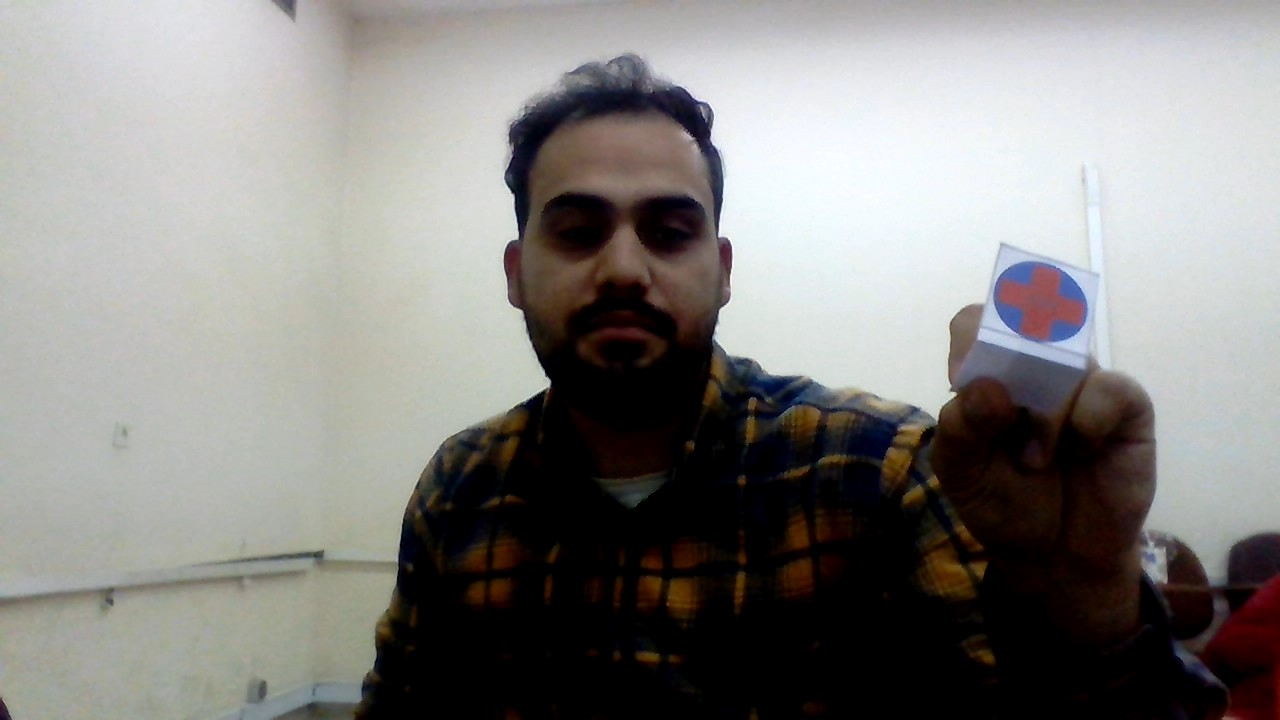bmc: (1000, 251, 1092, 352)
